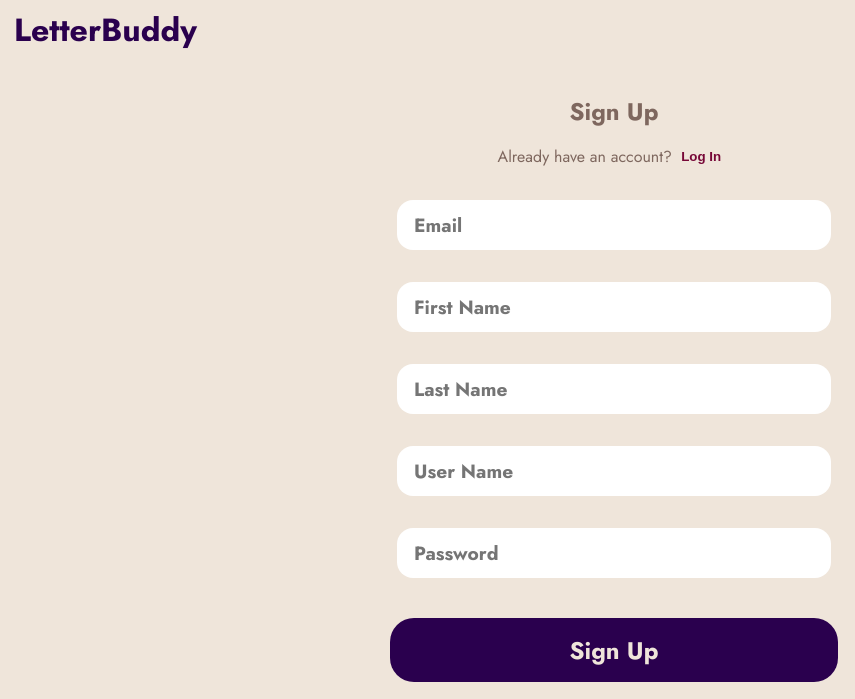
Test: SignUp Form › should successfully sign up with valid data
Type "test@example.com" into the field with placeholder "Email" at (614, 225), box [397,200,831,250]
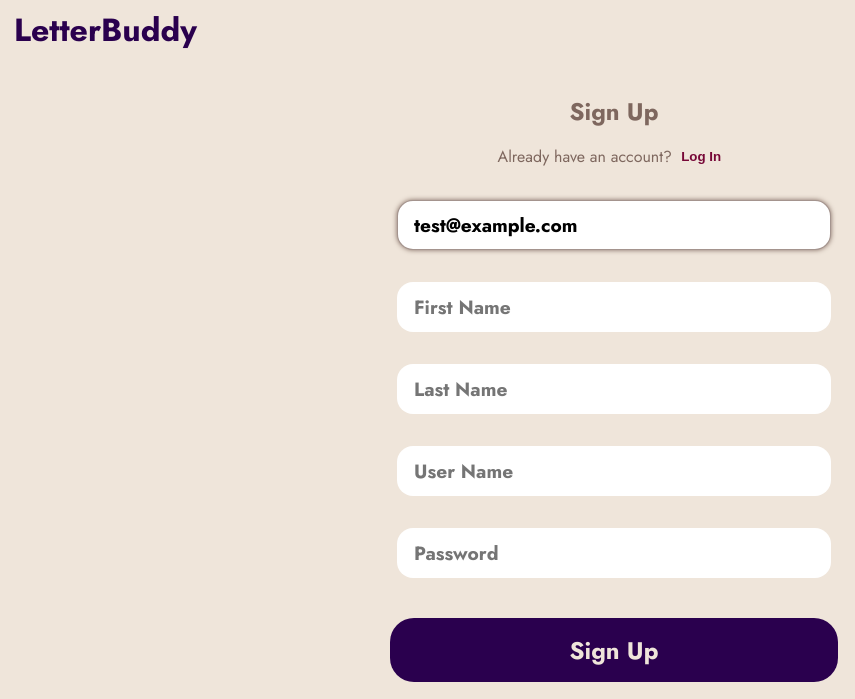
Type "Test" into the field with placeholder "First Name" at (614, 307), box [397,282,831,332]
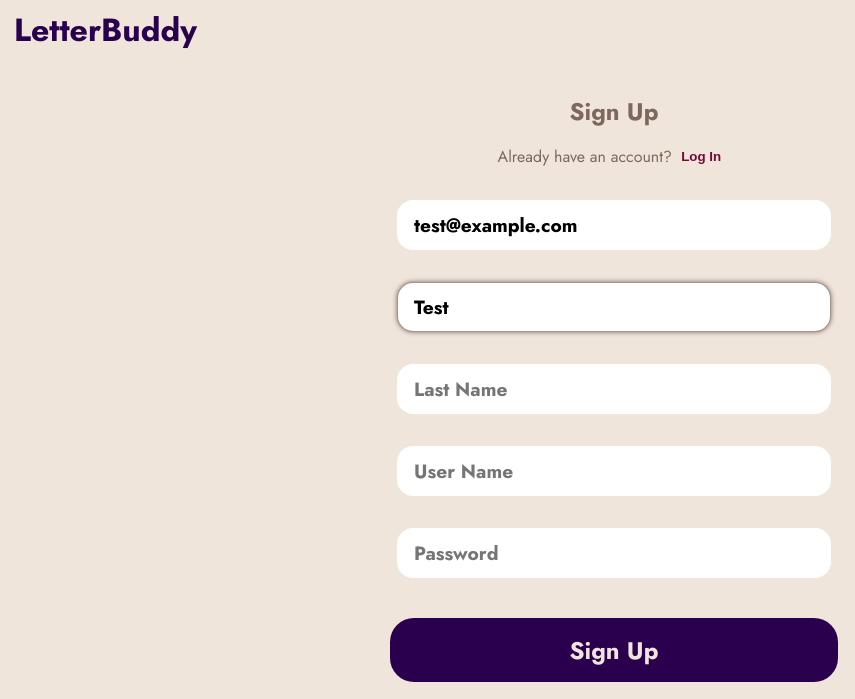
Type "User" into the field with placeholder "Last Name" at (614, 389), box [397,364,831,414]
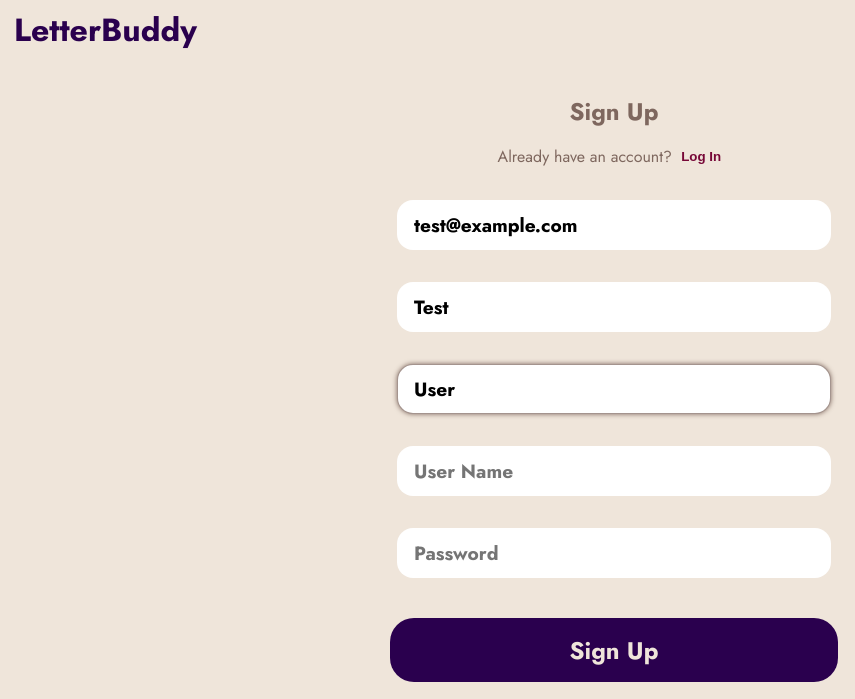
Type "testuser" into the field with placeholder "User Name" at (614, 471), box [397,446,831,496]
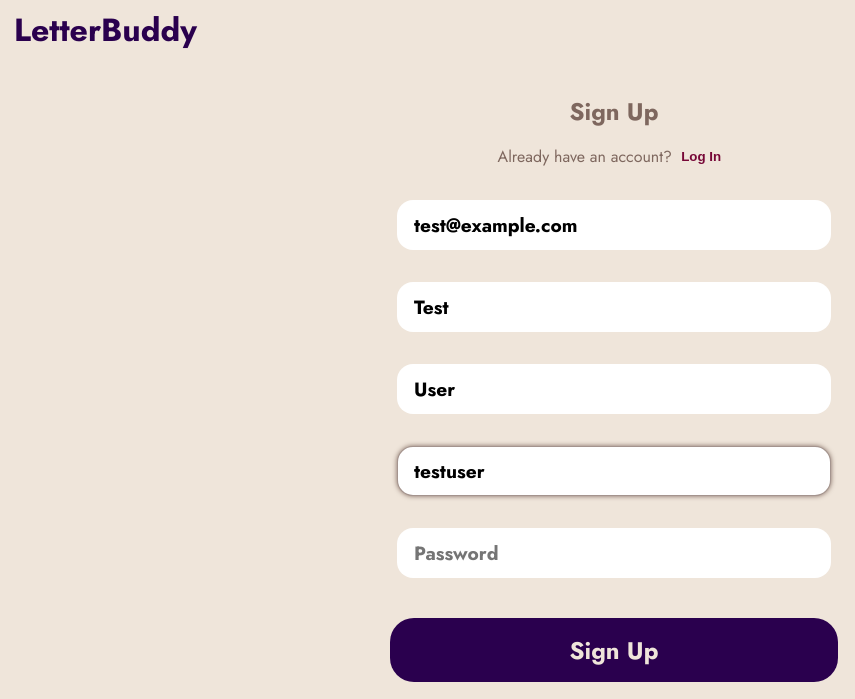
Type "password123" into the password field with placeholder "Password" at (614, 553), box [397,528,831,578]
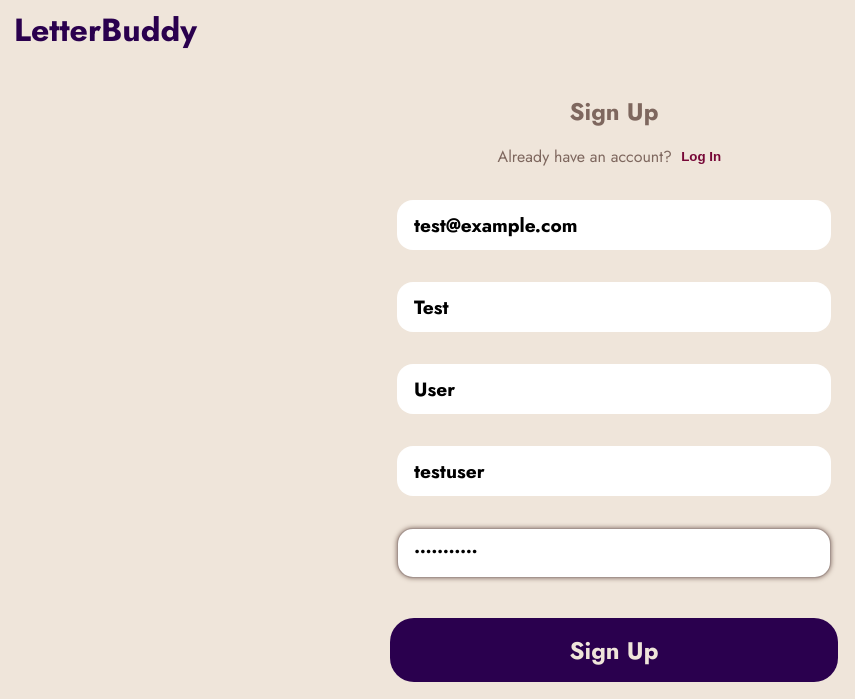
Click the submit button at (614, 650), box [390,618,838,682]
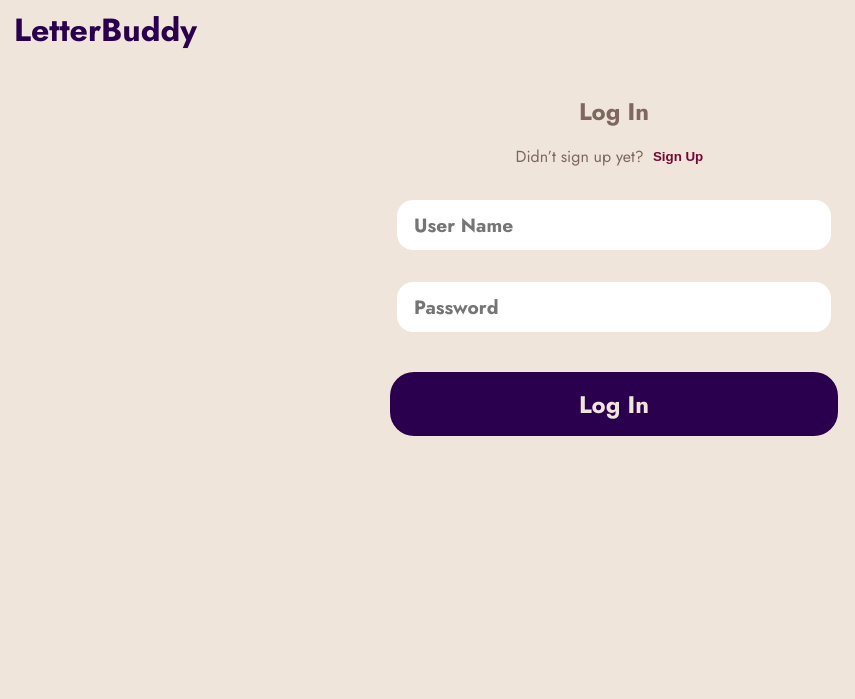
Result: the text "Log In" is shown at [579,94,649,129]
